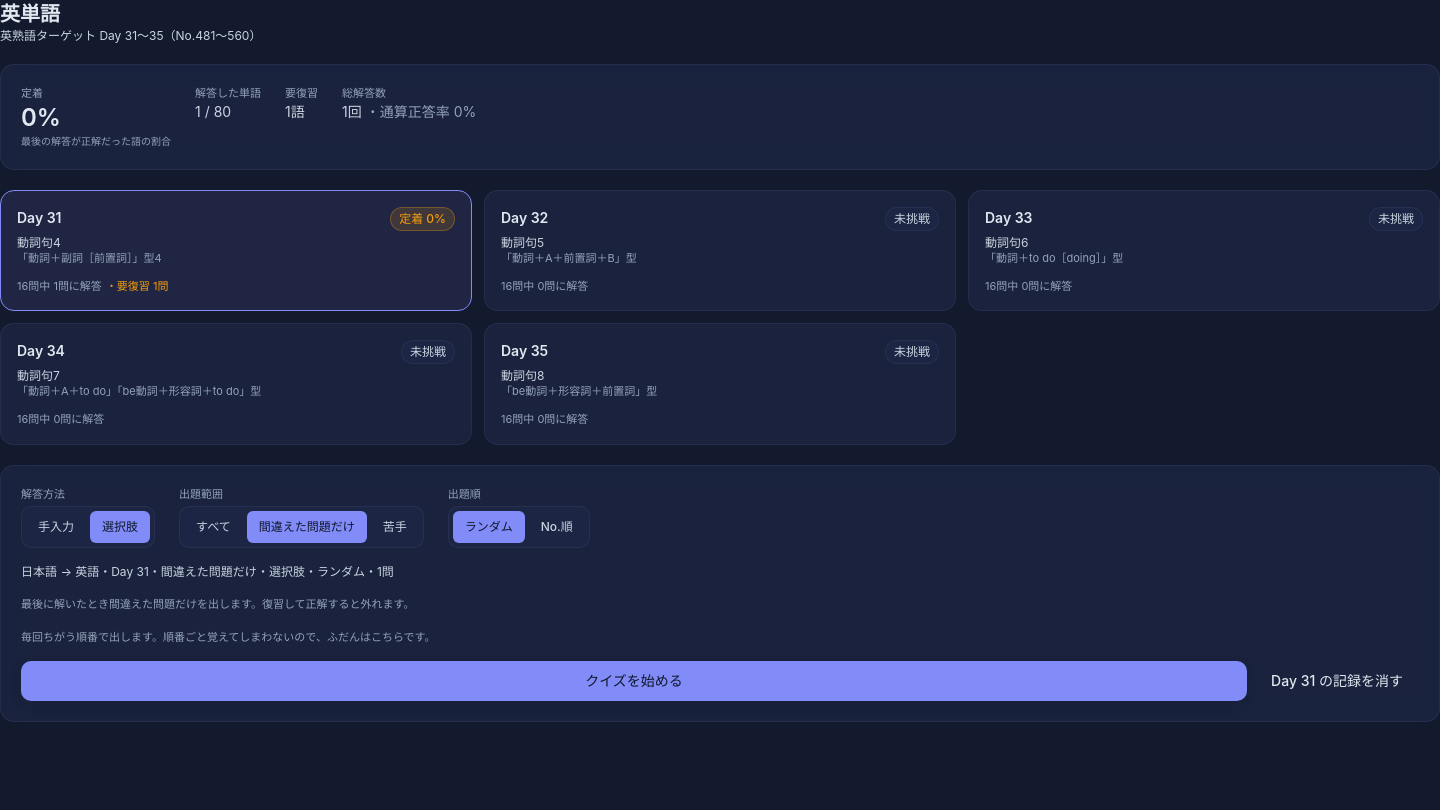
Test: クイズを解く › reveals the explanation and the example after an answer, not before
The image size is (1440, 810).
Click the button "クイズを始める".
click(634, 681)  # box [21,661,1247,701]
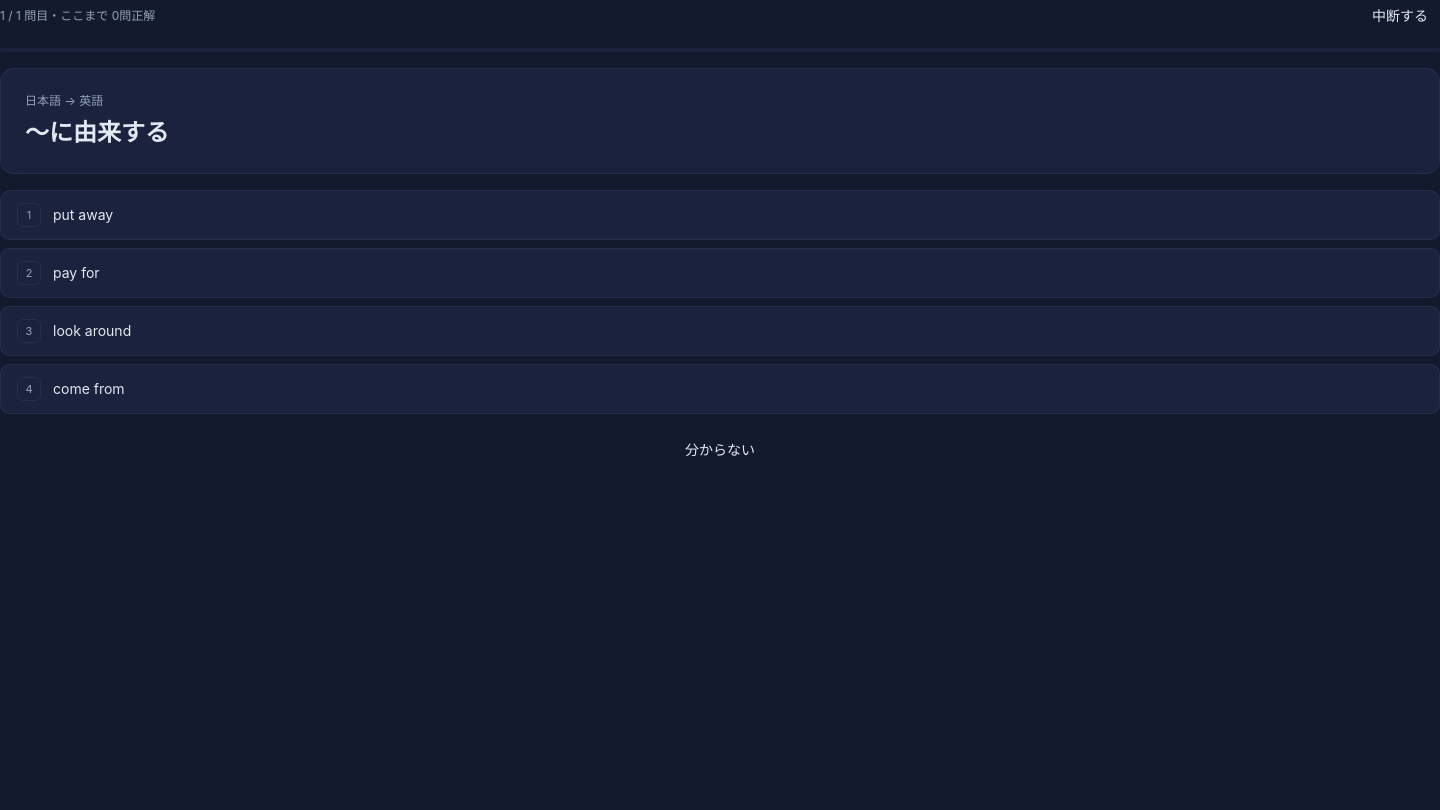
Expected: the text "解説" is not shown
Click the button "4 come from".
click(89, 388)  # box [0,364,1439,414]
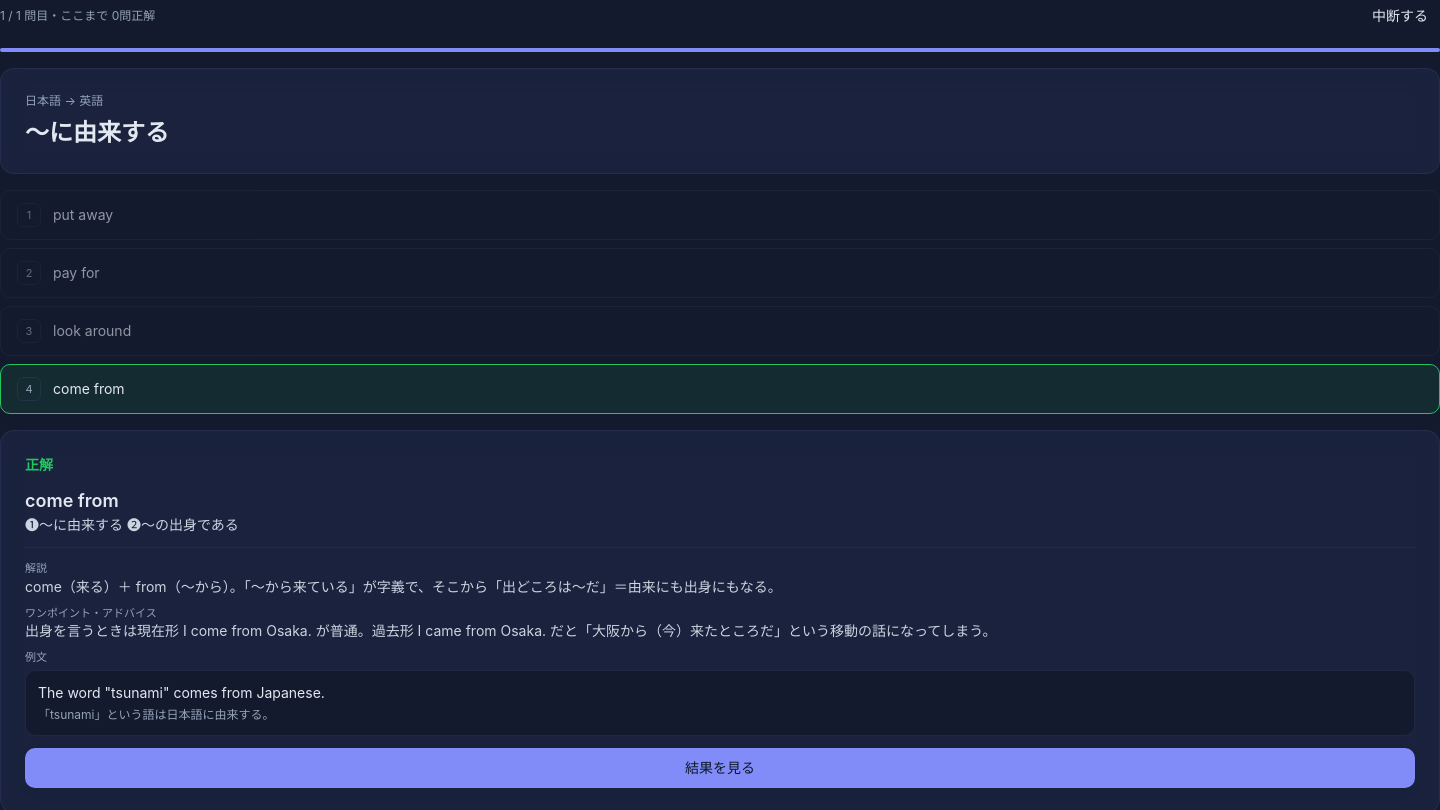
Result: the text "解説" is shown at [25,561,47,575]
Result: the text "ワンポイント・アドバイス" is shown at [25,606,157,620]
Result: the text "come（来る）＋ from（〜から）。「〜から来ている」が字義で、そこから「出どころは〜だ」＝由来にも出身にもなる。" is shown at [25,578,782,594]
